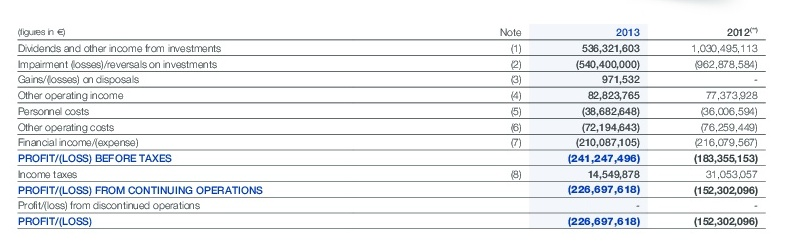table: (0, 0, 785, 243)
